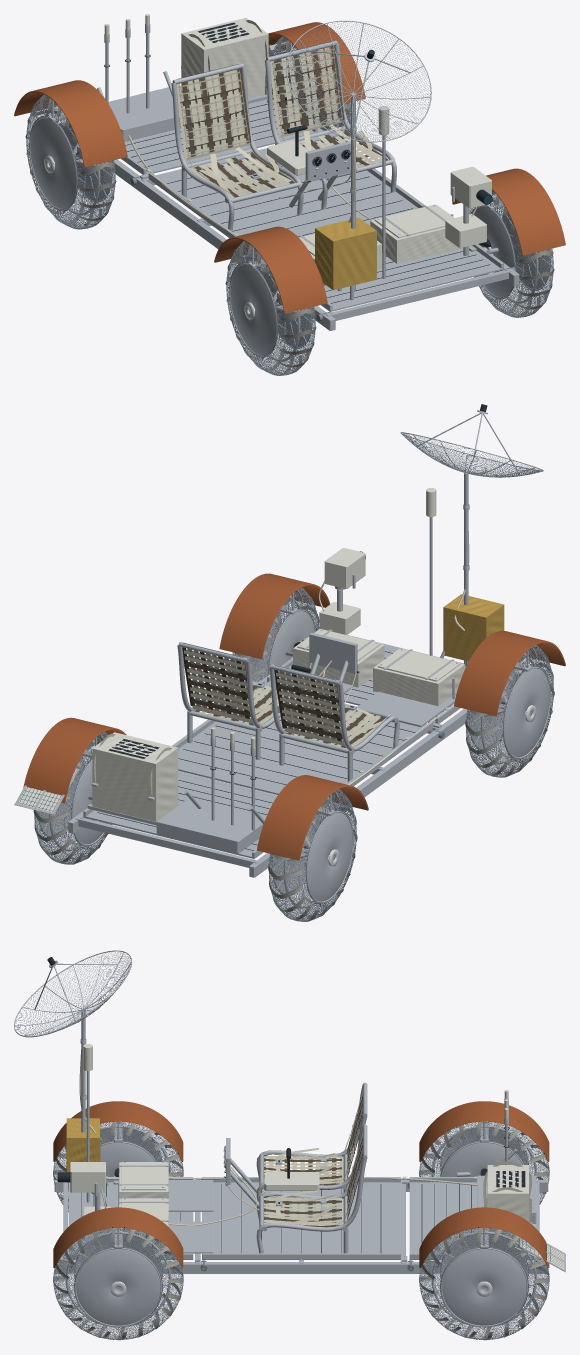
Rendered from lrv17-exterior.glb.
3 views of the same model, one above another, from view 1: azimuth 30°, elevation 25°; view 2: azimuth 150°, elevation 25°; view 3: azimuth 270°, elevation 25° (orthographic). The views are drawn at different scales.
Parts seen in each view (by area): view 1: CHASSIS_Machined_aluminium, FENDER_SHELL_Orange_fibreglass_dust_fender (×4), WOVEN_SEAT_LEFT_Nylon_seat_webbing (×2), SEATS_Machined_aluminium, REAR_EQUIPMENT_White_thermal_coating, HGA_WIRE_REFLECTOR_Steel_fixings, WOVEN_SEAT_RIGHT_Nylon_seat_webbing, LCRU_Multilayer_thermal_foil, REAR_EQUIPMENT_Machined_aluminium, BATTERY_COVERS_White_thermal_coating, WHEEL_-1_1.15_MESH_Steel_fixings, WHEEL_-1_-1.15_MESH_Steel_fixings (+23 smaller); view 2: CHASSIS_Machined_aluminium, FENDER_SHELL_Orange_fibreglass_dust_fender (×4), SEATS_Machined_aluminium, REAR_EQUIPMENT_White_thermal_coating, BATTERY_COVERS_White_thermal_coating, REAR_EQUIPMENT_Machined_aluminium, WOVEN_SEAT_LEFT_Nylon_seat_webbing, WHEEL_-1_1.15_MESH_Steel_fixings, WHEEL_-1_-1.15_MESH_Steel_fixings, WOVEN_SEAT_RIGHT_Nylon_seat_webbing, LCRU_Multilayer_thermal_foil, WHEEL_-1_-1.15_OUTER_DISK_Machined_aluminium (+20 smaller); view 3: CHASSIS_Machined_aluminium, FENDER_SHELL_Orange_fibreglass_dust_fender (×4), SEATS_Machined_aluminium, WHEEL_1_-1.15_OUTER_DISK_Machined_aluminium, WHEEL_1_1.15_OUTER_DISK_Machined_aluminium, WHEEL_1_1.15_MESH_Steel_fixings, WHEEL_1_-1.15_MESH_Steel_fixings, BATTERY_COVERS_White_thermal_coating, WHEEL_-1_-1.15_MESH_Steel_fixings, HGA_WIRE_REFLECTOR_Steel_fixings, REAR_EQUIPMENT_White_thermal_coating, WHEEL_1_1.15_TRACTION_Titanium_traction_bands (+28 smaller).
Part boxes in pixels (box(x1,y1,x2,y2)): CHASSIS_Machined_aluminium: box(60, 98, 519, 330); FENDER_SHELL_Orange_fibreglass_dust_fender (×4): box(14, 22, 565, 313); WOVEN_SEAT_LEFT_Nylon_seat_webbing (×2): box(176, 70, 291, 198); SEATS_Machined_aluminium: box(171, 40, 453, 237); REAR_EQUIPMENT_White_thermal_coating: box(104, 14, 268, 104); HGA_WIRE_REFLECTOR_Steel_fixings: box(287, 22, 430, 141); WOVEN_SEAT_RIGHT_Nylon_seat_webbing: box(270, 47, 382, 167); LCRU_Multilayer_thermal_foil: box(315, 217, 376, 290); REAR_EQUIPMENT_Machined_aluminium: box(97, 33, 273, 141); BATTERY_COVERS_White_thermal_coating: box(299, 204, 462, 268); WHEEL_-1_1.15_MESH_Steel_fixings: box(226, 241, 315, 375); WHEEL_-1_-1.15_MESH_Steel_fixings: box(26, 95, 115, 229); CHASSIS_Machined_aluminium: box(68, 635, 519, 877); FENDER_SHELL_Orange_fibreglass_dust_fender (×4): box(23, 573, 565, 860); SEATS_Machined_aluminium: box(177, 641, 455, 781); REAR_EQUIPMENT_White_thermal_coating: box(92, 727, 255, 821); BATTERY_COVERS_White_thermal_coating: box(293, 629, 464, 706); REAR_EQUIPMENT_Machined_aluminium: box(87, 746, 265, 853); WOVEN_SEAT_LEFT_Nylon_seat_webbing: box(276, 671, 384, 748); WHEEL_-1_1.15_MESH_Steel_fixings: box(466, 645, 553, 777); WHEEL_-1_-1.15_MESH_Steel_fixings: box(269, 789, 356, 921); WOVEN_SEAT_RIGHT_Nylon_seat_webbing: box(184, 649, 277, 725); LCRU_Multilayer_thermal_foil: box(443, 594, 504, 661); WHEEL_-1_-1.15_OUTER_DISK_Machined_aluminium: box(307, 812, 352, 901); CHASSIS_Machined_aluminium: box(54, 1177, 548, 1273); FENDER_SHELL_Orange_fibreglass_dust_fender (×4): box(53, 1101, 549, 1268); SEATS_Machined_aluminium: box(146, 1082, 367, 1253); WHEEL_1_-1.15_OUTER_DISK_Machined_aluminium: box(442, 1249, 526, 1325); WHEEL_1_1.15_OUTER_DISK_Machined_aluminium: box(76, 1249, 160, 1325); WHEEL_1_1.15_MESH_Steel_fixings: box(53, 1228, 183, 1339); WHEEL_1_-1.15_MESH_Steel_fixings: box(419, 1228, 549, 1339); BATTERY_COVERS_White_thermal_coating: box(119, 1162, 168, 1248); WHEEL_-1_-1.15_MESH_Steel_fixings: box(419, 1121, 549, 1204); HGA_WIRE_REFLECTOR_Steel_fixings: box(15, 951, 130, 1036); REAR_EQUIPMENT_White_thermal_coating: box(487, 1090, 529, 1243); WHEEL_1_1.15_TRACTION_Titanium_traction_bands: box(53, 1228, 183, 1340).
Bounding box in the file's own units: 1.88 × 2.1 × 3.47.
